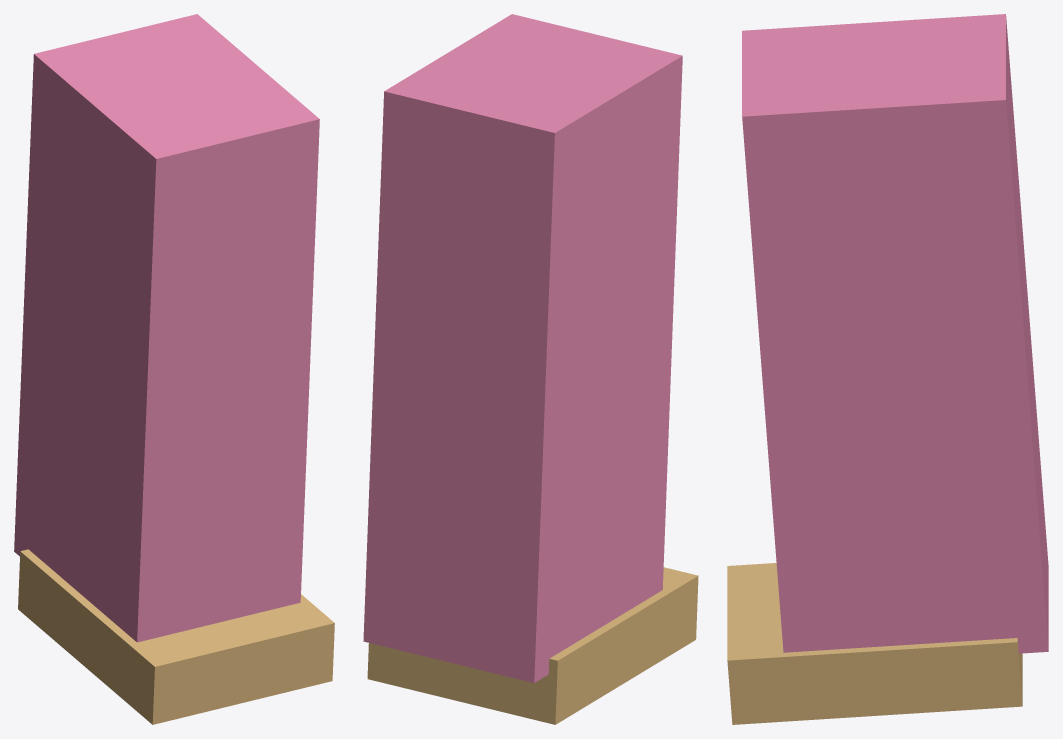
Rendered from LightRounds.obj.
3 views of the same model, side by side, from view 1: azimuth 30°, elevation 25°; view 2: azimuth 150°, elevation 25°; view 3: azimuth 270°, elevation 25° (orthographic). The views are drawn at different scales.
Parts seen in each view (by area): view 1: LightRounds_Body, LightRounds_Detail; view 2: LightRounds_Body, LightRounds_Detail; view 3: LightRounds_Body, LightRounds_Detail.
Part boxes in pixels (x1=…): LightRounds_Body: x1=14, y1=14, x2=319, y2=642; LightRounds_Detail: x1=18, y1=549, x2=334, y2=724; LightRounds_Body: x1=363, y1=14, x2=682, y2=682; LightRounds_Detail: x1=367, y1=567, x2=698, y2=724; LightRounds_Body: x1=742, y1=14, x2=1048, y2=653; LightRounds_Detail: x1=727, y1=563, x2=1022, y2=724.
Bounding box in the file's own units: 0.11 × 0.3366 × 0.1579.
